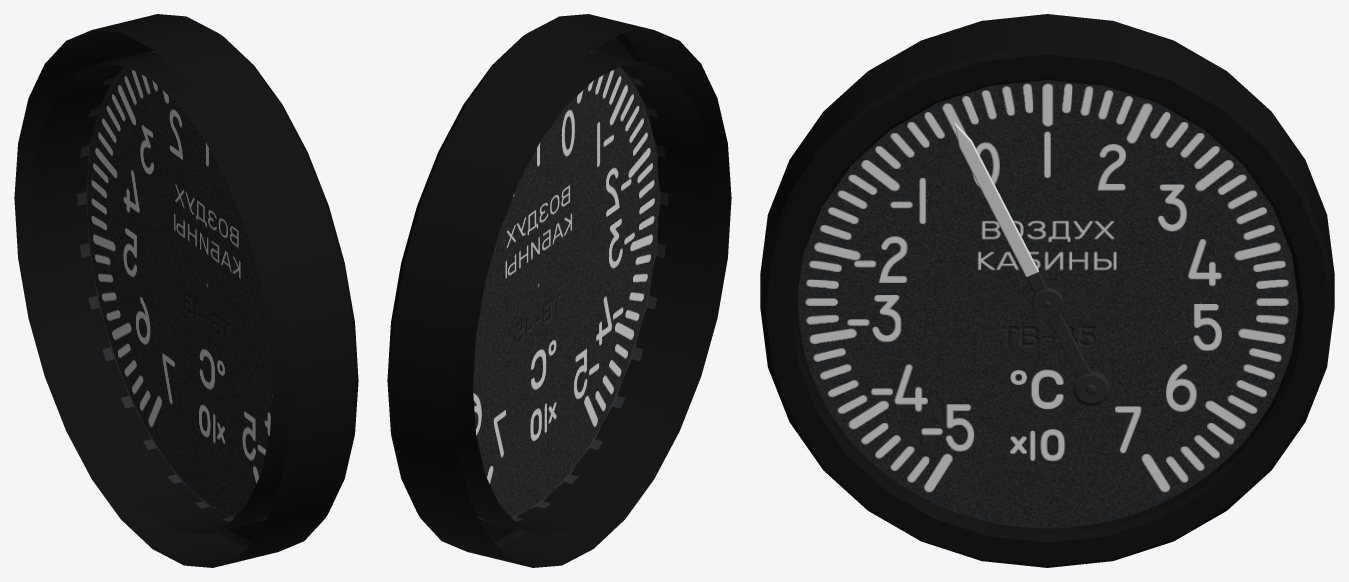
3 views of the same model, side by side, from view 1: azimuth 30°, elevation 25°; view 2: azimuth 150°, elevation 25°; view 3: azimuth 270°, elevation 25° (orthographic). The views are drawn at different scales.
Visible parts, largest first — view 1: korpus017, Circle034; view 2: korpus017, Circle034; view 3: Circle034, korpus017, Object030.
Part boxes in pixels (bbox=[...]): korpus017: bbox=[14, 14, 358, 567]; Circle034: bbox=[77, 51, 272, 521]; korpus017: bbox=[387, 14, 731, 567]; Circle034: bbox=[473, 51, 668, 521]; Circle034: bbox=[796, 80, 1298, 528]; korpus017: bbox=[760, 14, 1334, 567]; Object030: bbox=[954, 122, 1110, 405].
Bounding box in the file's own units: 10 × 67.57 × 67.57.
4 materials, 3 textured.
